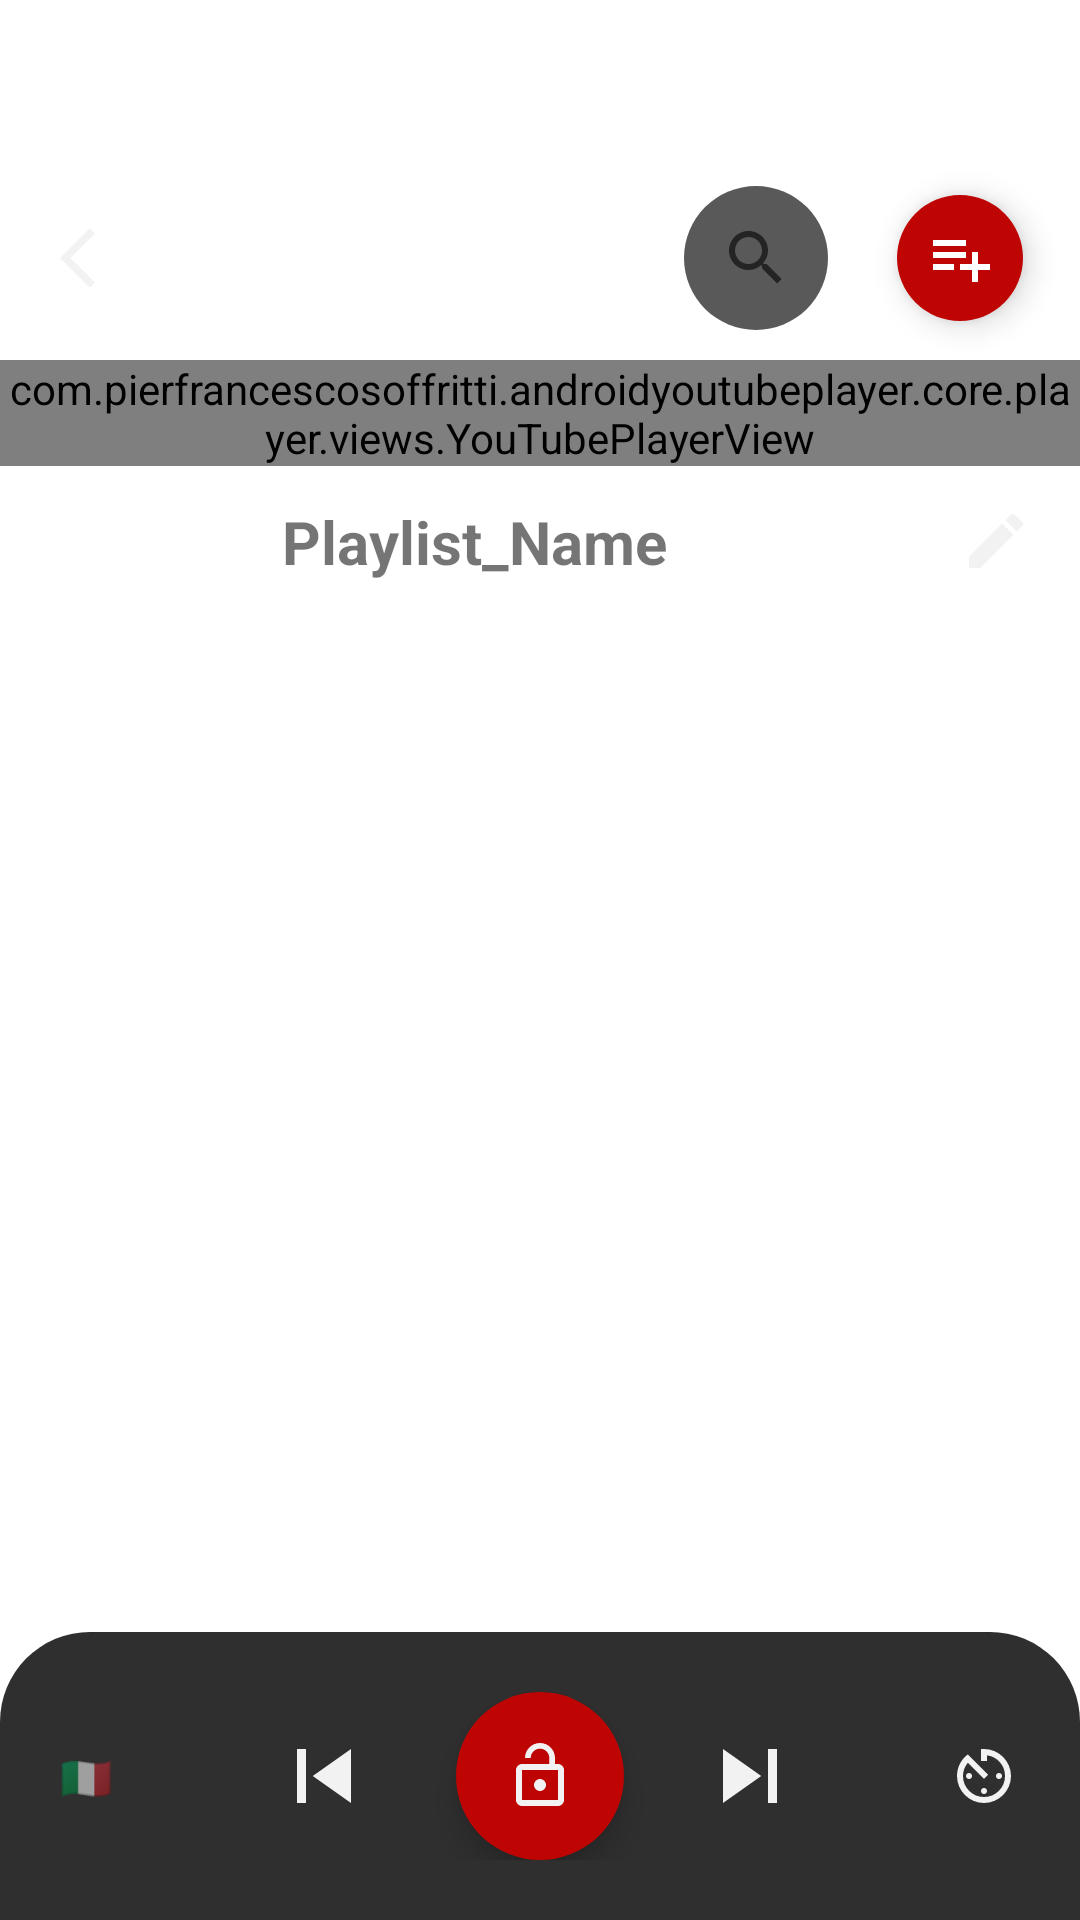

Icon click points for this 1080px x 1920px phone screenshot, format [x,y]:
lock screen: [540,1776]
next: [750,1776]
playlist add circle: [961,258]
prev: [324,1776]
timer: [984,1776]
